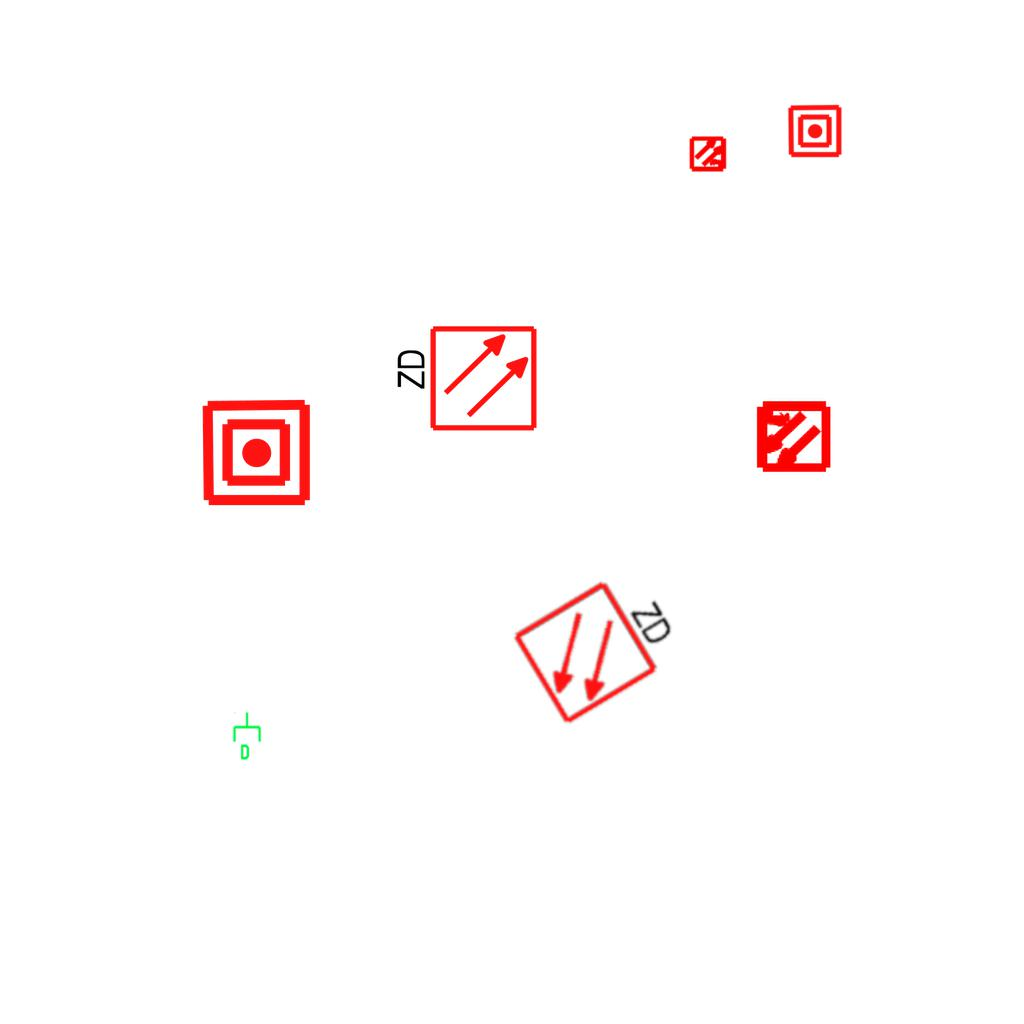Datenanschluss_einfach: (231, 711, 265, 761)
NAM-Nichtautomatischer_Melder: (200, 396, 313, 509), (787, 103, 843, 159)
OT_Multisensormelder_(Kombination_RMO_WMD): (735, 380, 848, 493), (681, 126, 737, 182)
ZD_Melder_in_Zwischendecke_mit_Revisionsoeffnung_mind_40_x_40_cm: (507, 554, 695, 729), (390, 323, 539, 437)
